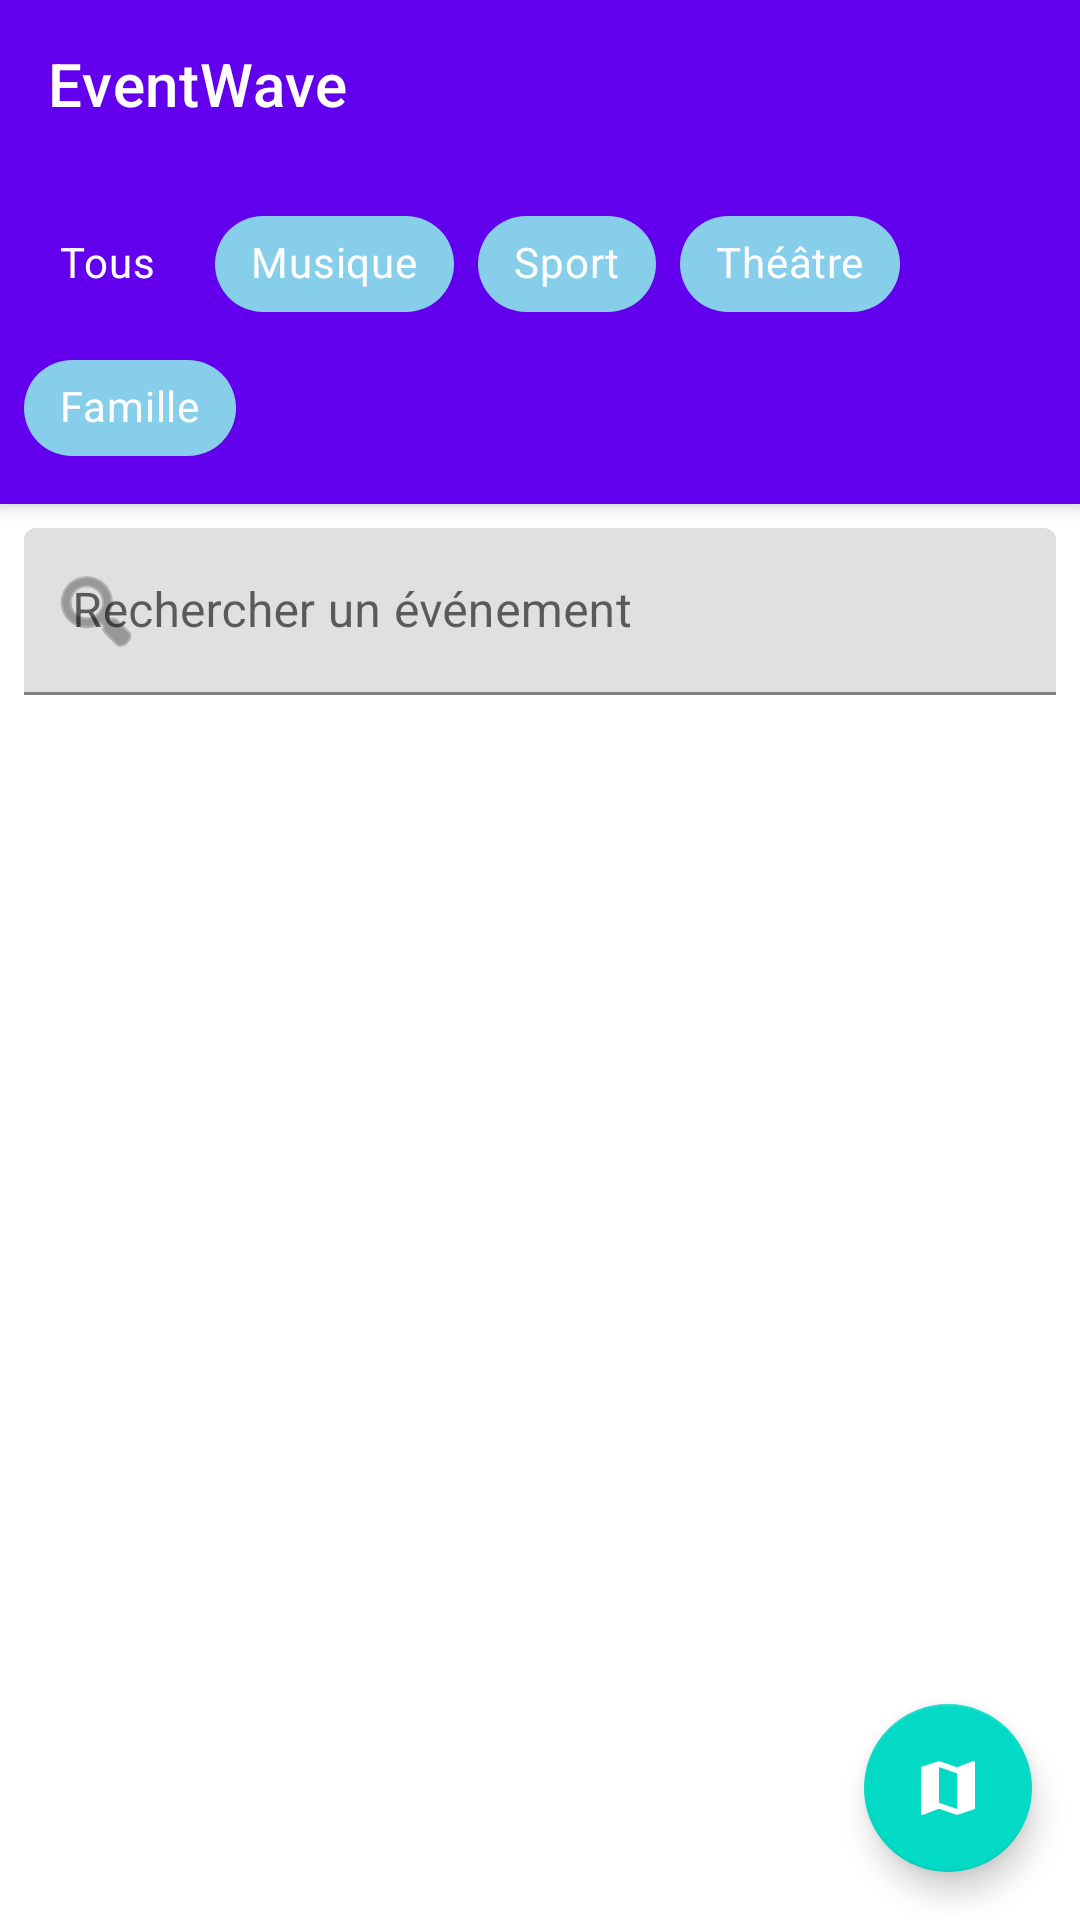

Screen size 1080*1920. Icon name, then its box in pixels as [left=x1, top=y1, right=x2, bottom=y2]:
Voir sur la carte: [left=864, top=1704, right=1032, bottom=1872]
